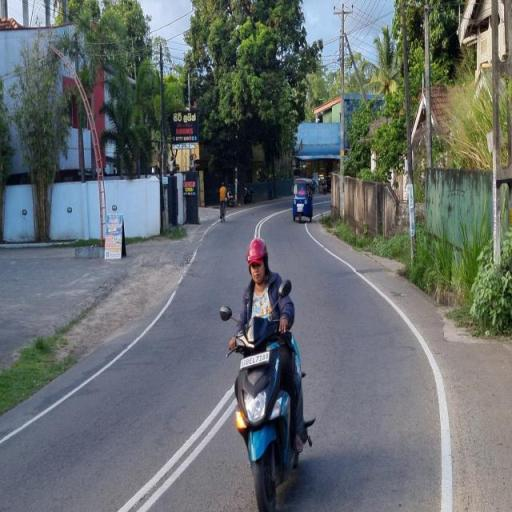double_white_line: (112, 386, 234, 510)
